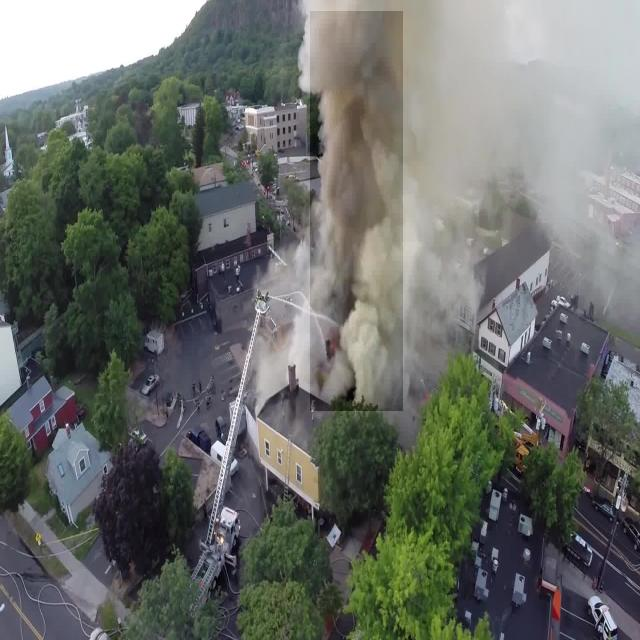Smoke: (310, 11, 403, 411)
